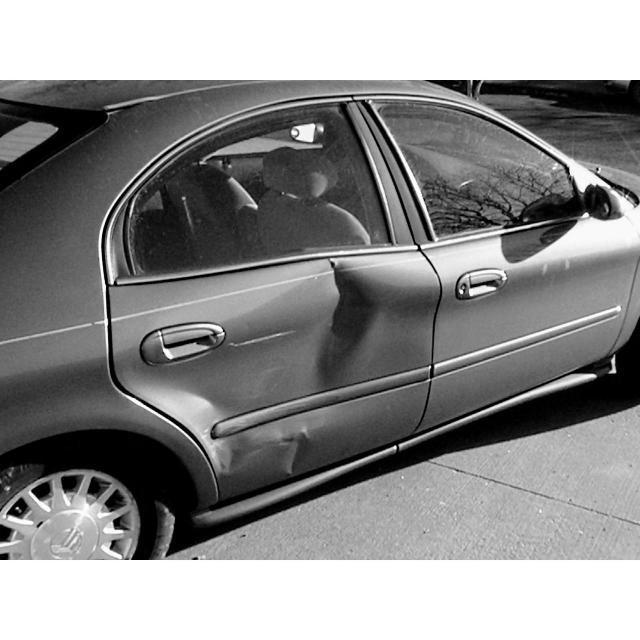doorouter-dent: (110, 243, 410, 484)
